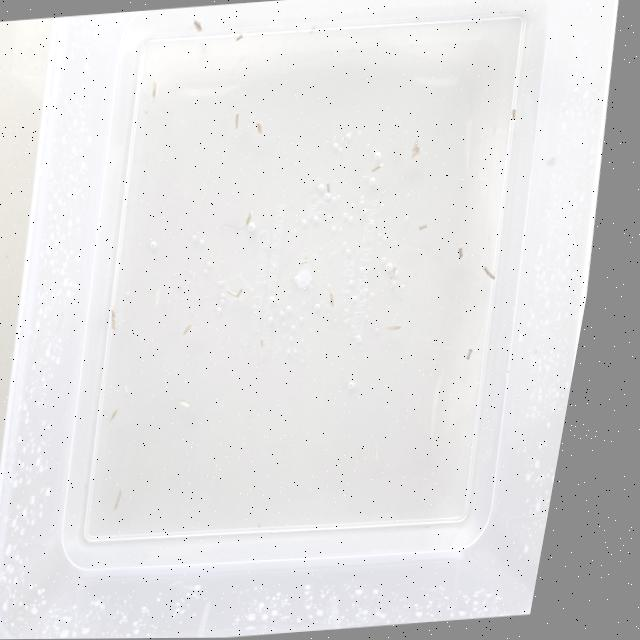Wereng: (107, 485, 127, 515), (102, 403, 122, 428), (220, 283, 246, 302), (172, 321, 193, 344), (477, 264, 500, 282), (229, 110, 244, 135), (406, 138, 423, 160), (147, 75, 162, 99), (189, 16, 206, 36), (104, 307, 118, 331), (324, 287, 338, 308), (250, 118, 263, 140), (256, 329, 269, 350), (239, 210, 253, 229), (382, 322, 403, 334), (461, 346, 474, 365), (385, 263, 398, 282), (368, 162, 384, 177), (318, 180, 332, 197), (505, 107, 517, 126), (411, 222, 428, 234), (174, 399, 195, 408), (454, 246, 467, 260), (292, 258, 312, 267), (368, 449, 380, 462), (232, 35, 242, 47)
